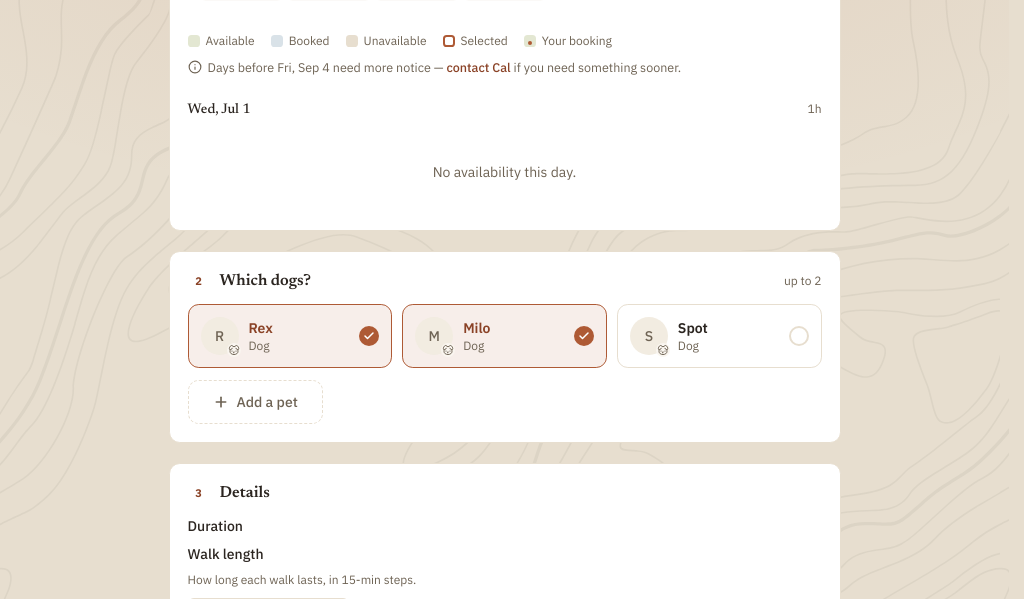
Test: EditBookingClient pet cap › enforces the walk 2-dog cap — a third pet is blocked with the at-cap notice
The image size is (1024, 599).
(page scrolled)
Click the button "S Spot Dog" at (719, 336), box [617,304,822,368]
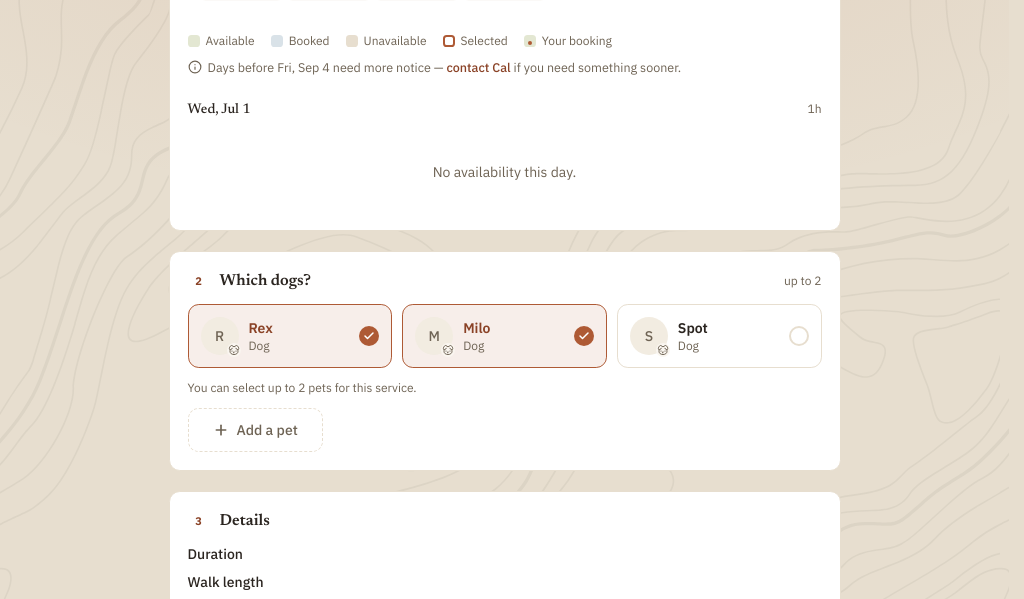
Now the text "You can select up to 2 pets for this service." is shown, box [188,380,417,395]
